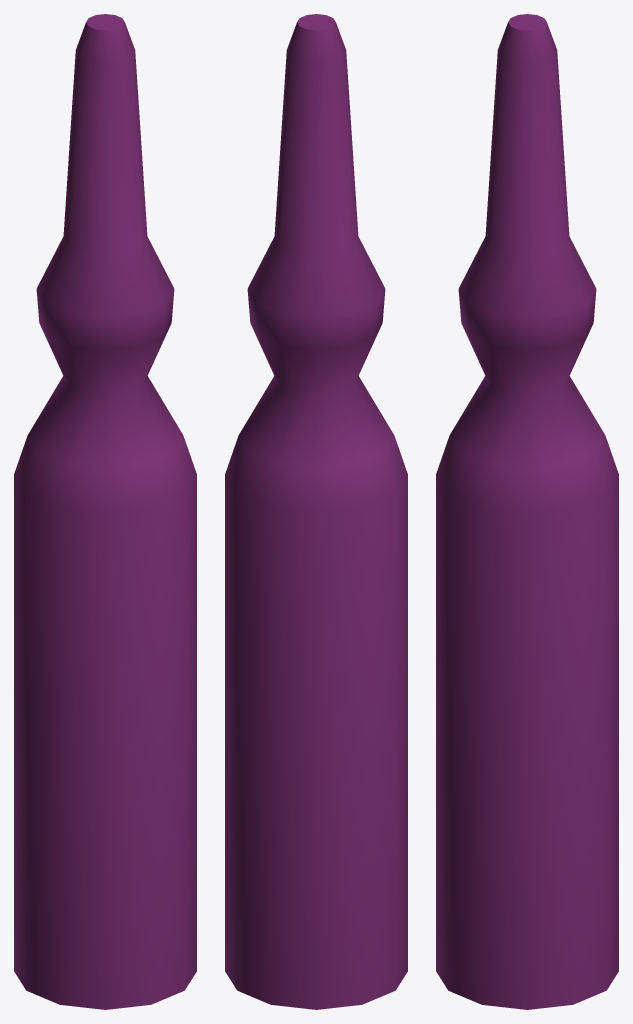
File: ampule1.FBX
3 views of the same model, side by side, from view 1: azimuth 30°, elevation 25°; view 2: azimuth 150°, elevation 25°; view 3: azimuth 270°, elevation 25° (orthographic).
Parts seen in each view (by area): view 1: ampule1; view 2: ampule1; view 3: ampule1.
Part boxes in pixels (left/top/right/bottom): ampule1: left=14, top=14, right=196, bottom=1009; ampule1: left=225, top=14, right=407, bottom=1009; ampule1: left=436, top=14, right=618, bottom=1009.
Bounding box in the file's own units: 1.01 × 1.01 × 5.79.
